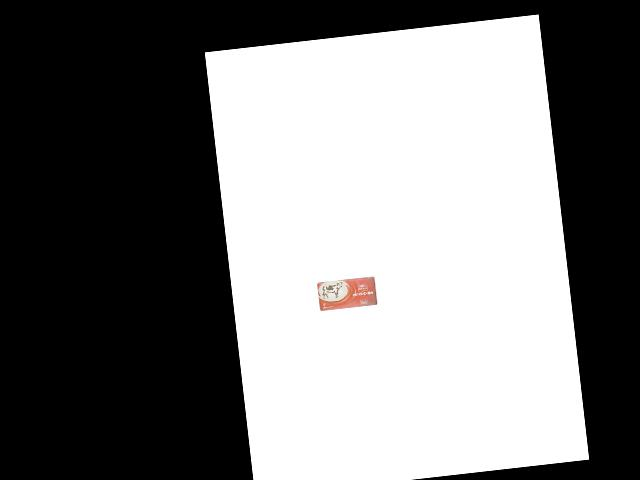chocolate: (317, 276, 379, 312)
